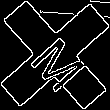M_NE: (21, 21, 89, 89)
